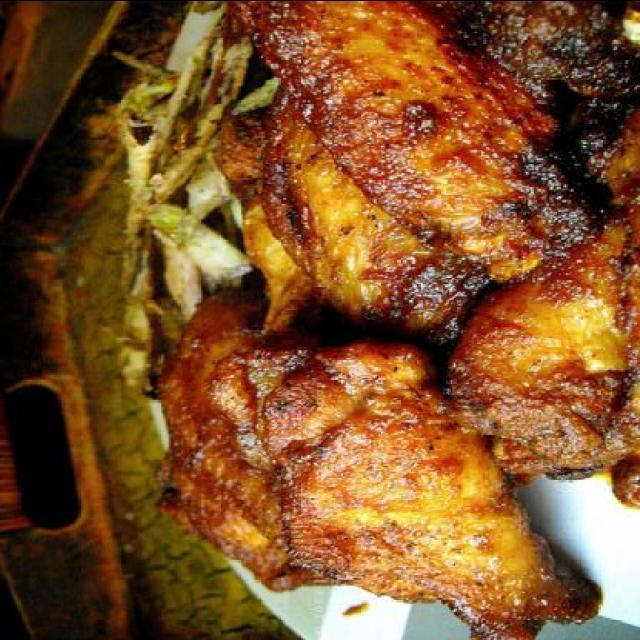Deep fried chicken wing: (164, 11, 636, 600)
